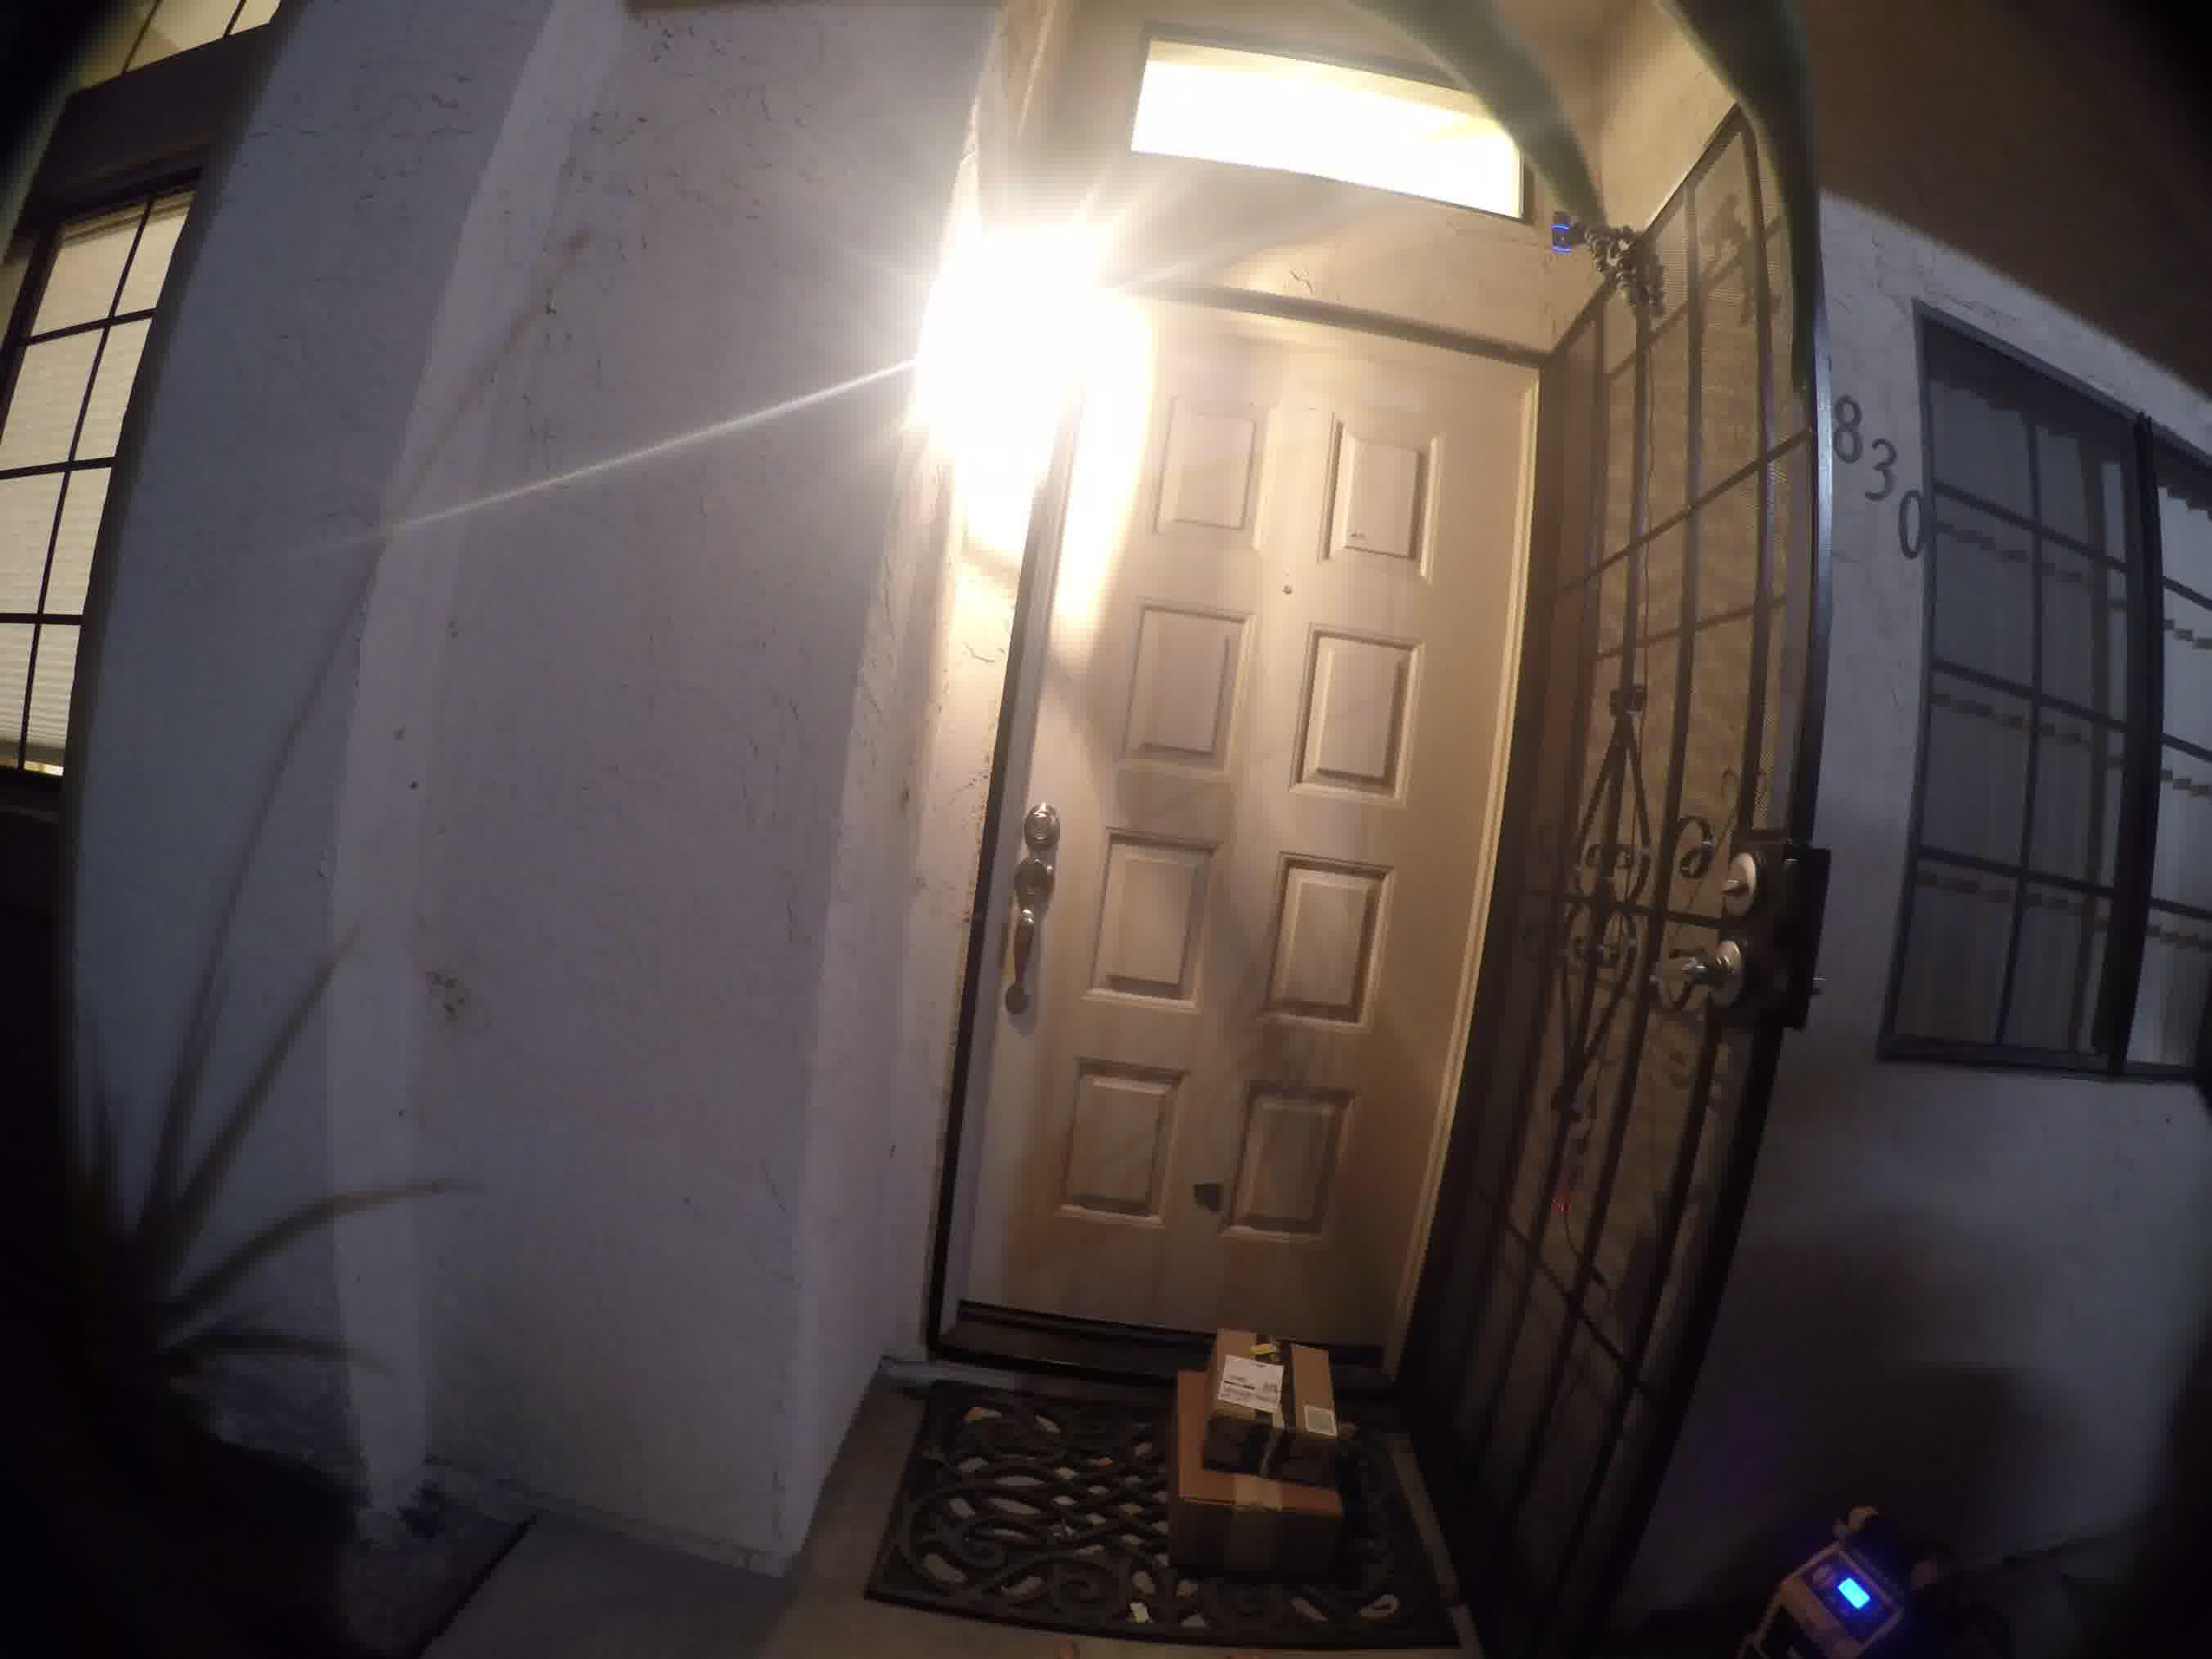box: (1158, 1349, 1364, 1589), (1197, 1310, 1352, 1495)
